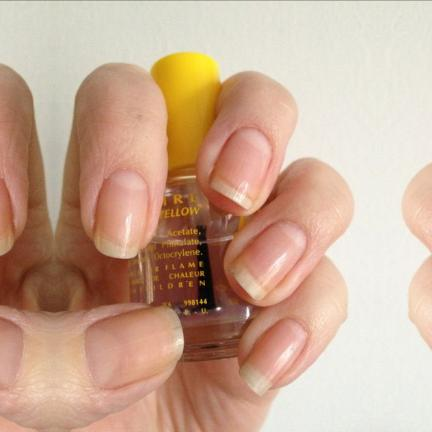Nail: (85, 306, 183, 389), (229, 221, 308, 301), (240, 317, 308, 396), (210, 128, 273, 212), (94, 169, 149, 259), (0, 319, 23, 389), (0, 177, 14, 256)
